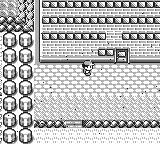main: (82, 61, 94, 75)
no-caminable: (39, 1, 159, 63), (2, 32, 34, 143), (1, 1, 34, 32)
puerta: (116, 49, 128, 63)
salto: (83, 120, 158, 127), (34, 120, 65, 128)
